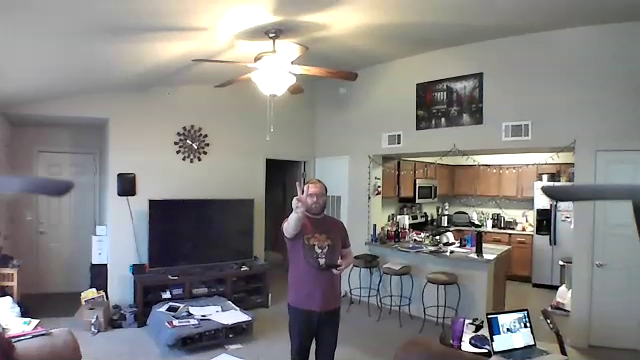peace: (288, 180, 311, 218)
